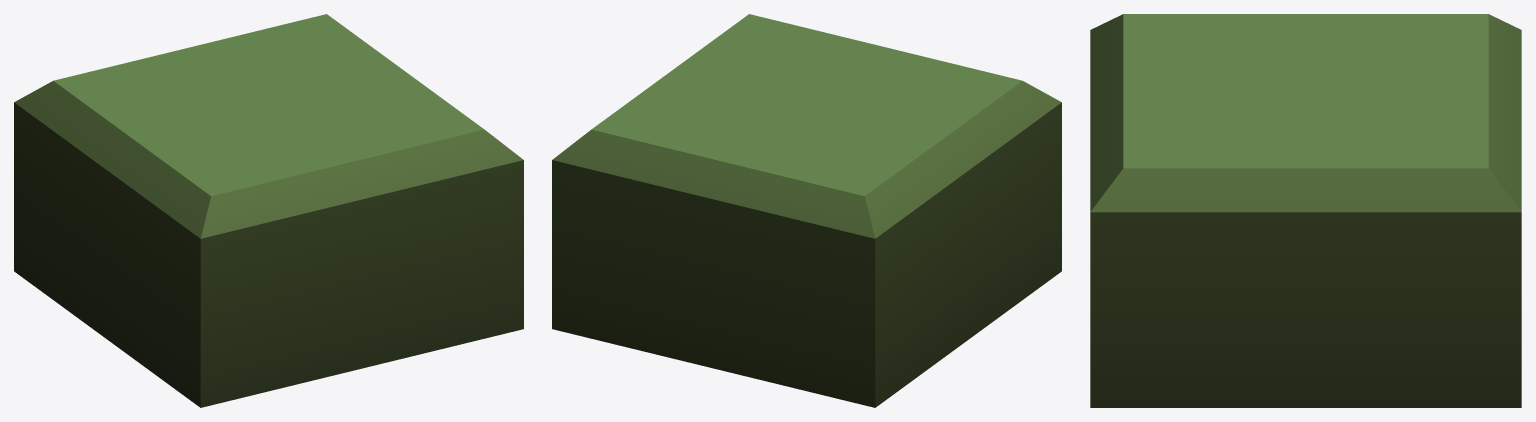
The model's file is pumpjack.glb.
3 renders of one model, left to right at view 1: azimuth 30°, elevation 25°; view 2: azimuth 150°, elevation 25°; view 3: azimuth 270°, elevation 25°, orthographic. The views are drawn at different scales.
Visible parts, largest first — view 1: pumpjack; view 2: pumpjack; view 3: pumpjack.
Boxes of the visible parts, box(x1,y1,x2,y2) form: pumpjack: box(14, 14, 523, 407); pumpjack: box(552, 14, 1061, 407); pumpjack: box(1090, 14, 1521, 407).
Bounding box in the file's own units: 0.26 × 0.15 × 0.26.
